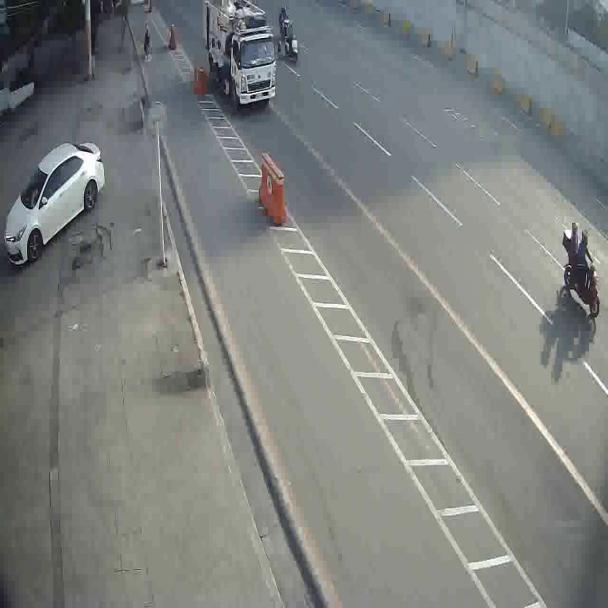motorcyclist: (560, 218, 599, 317), (274, 6, 305, 73)
vehicle: (7, 143, 106, 270), (208, 2, 278, 110)
